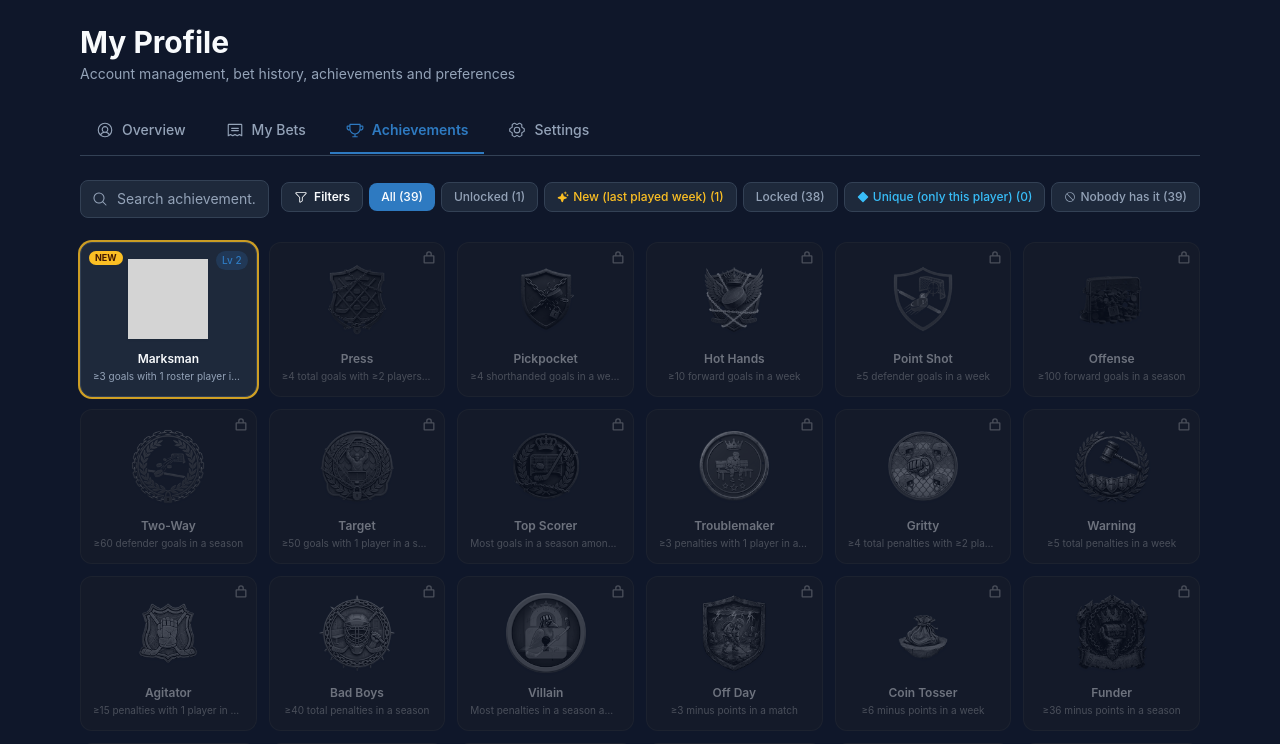
Test case: ProfilePage › opens filter modal in achievements tab and displays category filters
Check: the text "Marksman" is shown, box 138,351 -> 199,366
// Find filter button
Click the button "Filters".
click(322, 197)  # box 281,182 -> 363,212
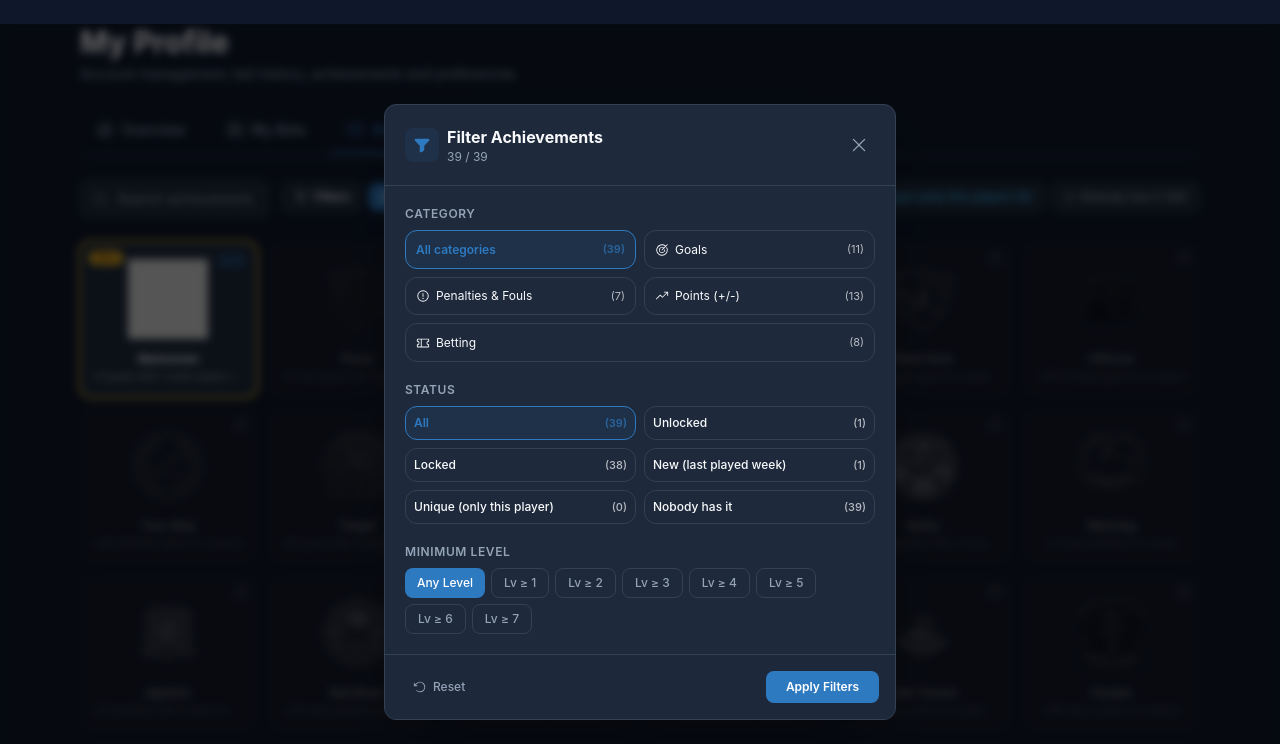
Check: the dialog is shown, box 384,104 -> 896,720
